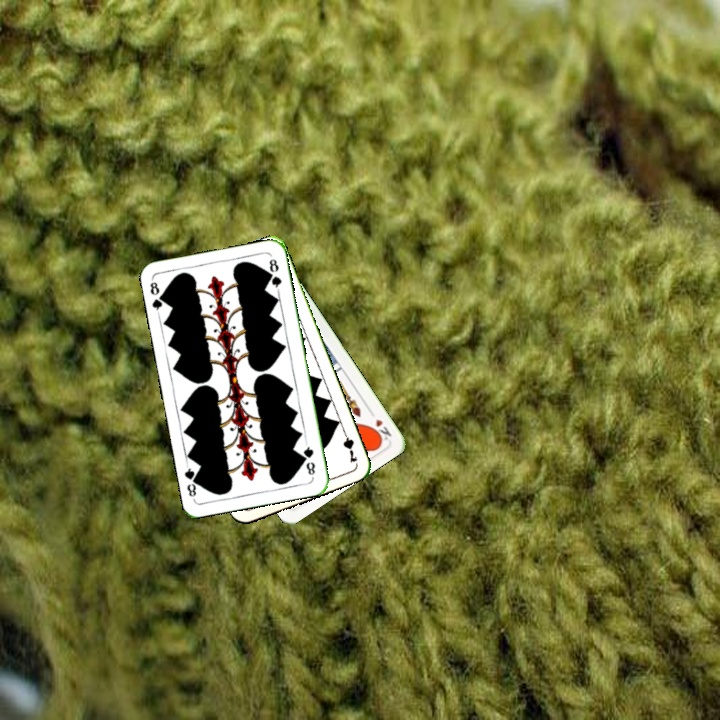G7: (338, 425, 360, 465)
G8: (146, 276, 168, 317), (299, 439, 318, 478)
HK: (365, 406, 394, 444)
